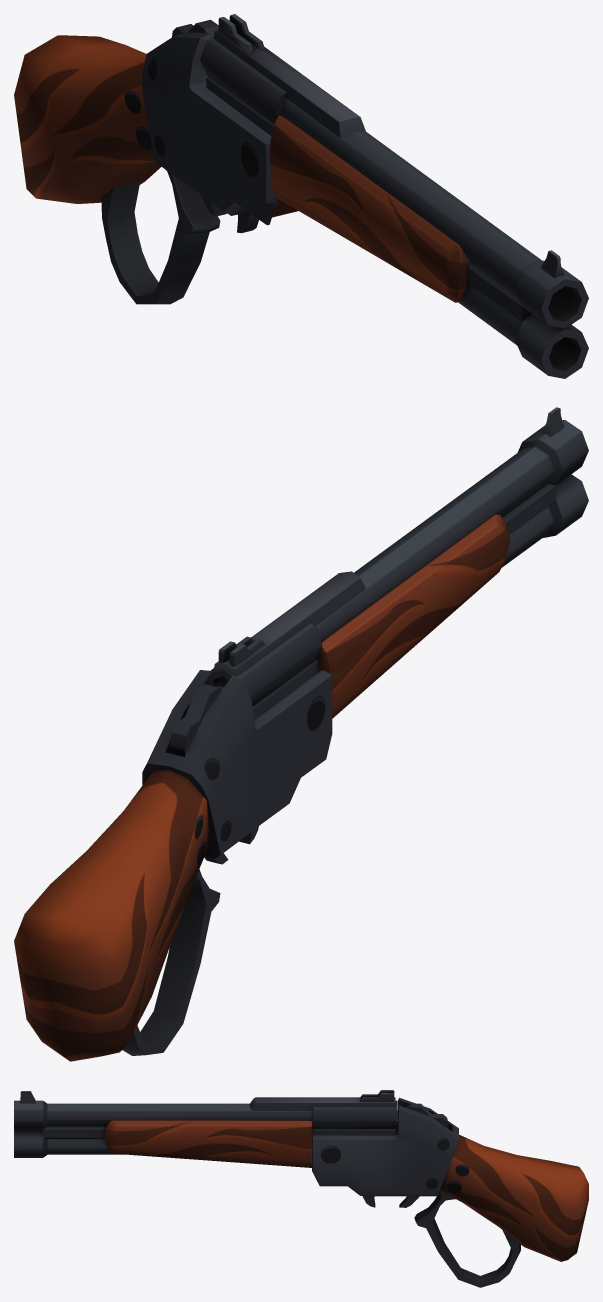
File: gun_b02.fbx
The picture shows the model from 3 angles, top to bottom: view 1: azimuth 30°, elevation 25°; view 2: azimuth 150°, elevation 25°; view 3: azimuth 270°, elevation 25°; orthographic projection. The views are drawn at different scales.
Visible parts, largest first — view 1: gun_b02_04, gun_b02_03; view 2: gun_b02_04, gun_b02_03, gun_b02_02; view 3: gun_b02_04, gun_b02_03, gun_b02_02.
Part boxes in pixels (bbox=[...]): gun_b02_04: bbox=[14, 32, 276, 304]; gun_b02_03: bbox=[200, 14, 588, 378]; gun_b02_04: bbox=[14, 670, 332, 1061]; gun_b02_03: bbox=[210, 407, 588, 718]; gun_b02_02: bbox=[170, 684, 223, 756]; gun_b02_04: bbox=[312, 1097, 588, 1287]; gun_b02_03: bbox=[14, 1090, 397, 1167]; gun_b02_02: bbox=[397, 1103, 448, 1128].
Bounding box in the file's own units: 12.47 × 39.66 × 106.
